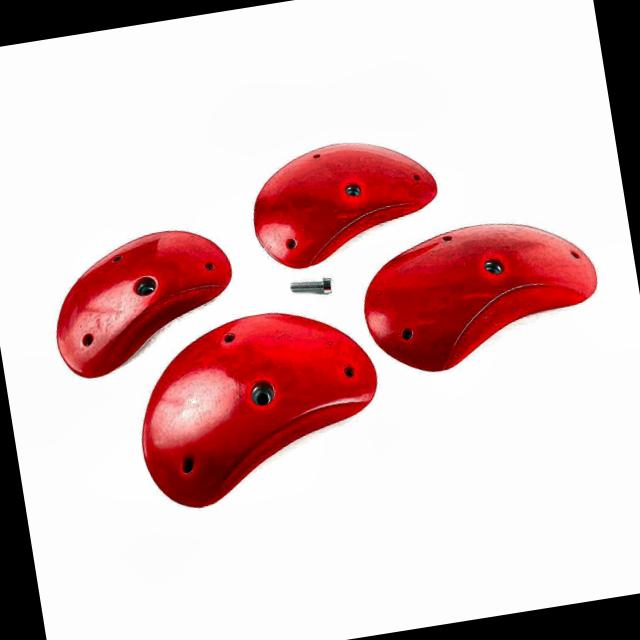Hold: (121, 298, 388, 517), (350, 210, 614, 386), (39, 221, 243, 378), (241, 128, 446, 274)
